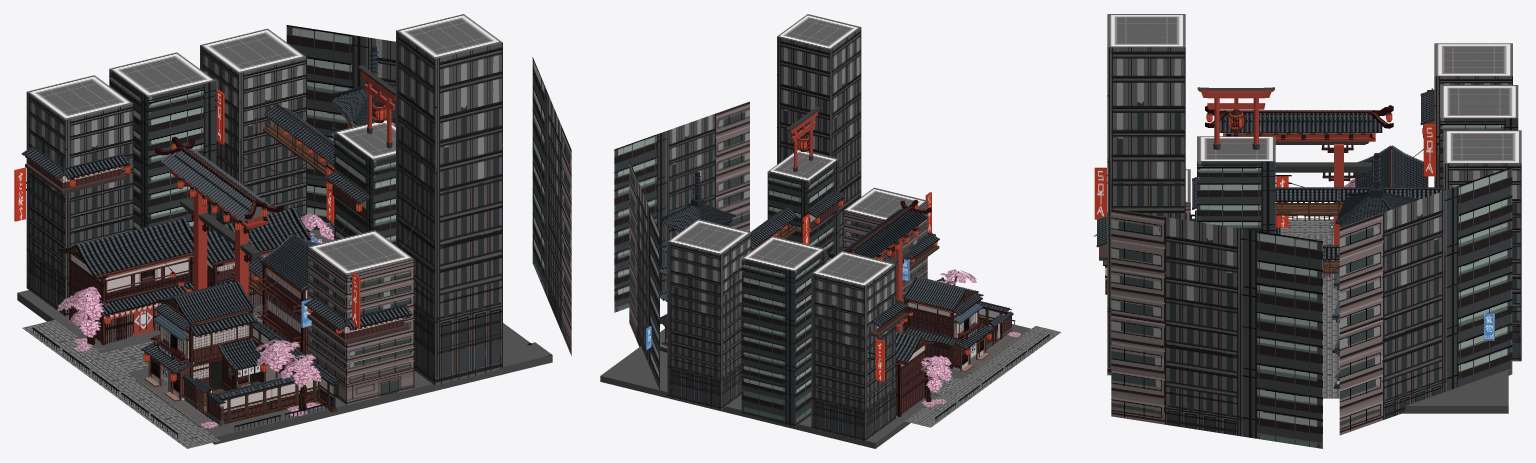
The picture shows the model from 3 angles, left to right: view 1: azimuth 30°, elevation 25°; view 2: azimuth 150°, elevation 25°; view 3: azimuth 270°, elevation 25°; orthographic projection. The views are drawn at different scales.
Visible parts, largest first — view 1: Object614_Material #11_0, Object422_Material #11_0, Object434_Material #11_0, Object548_Material #11_0, Object433_Material #11_0, Plane194, Plane193, Plane112, Box231, Object541_Material #11_0, Object527_Material #12_0, Object390_Material #4_0 (+28 smaller); view 2: Object422_Material #11_0, Object548_Material #11_0, Plane194, Object433_Material #11_0, Object614_Material #11_0, Object541_Material #11_0, Plane193, Box231, Object530_Material #12_0, Object527_Material #12_0, Object434_Material #11_0, Object640_Material #4_0 (+9 smaller); view 3: Plane194, Plane193, Object614_Material #11_0, Object541_Material #11_0, Object548_Material #11_0, Object433_Material #11_0, Object422_Material #11_0, Box530, Object640_Material #4_0, Object530_Material #12_0, Object529_Material #12_0, Object390_Material #4_0 (+11 smaller).
Part boxes in pixels (box(x1,y1,x2,y2)): Object614_Material #11_0: box(396, 14, 502, 385); Object422_Material #11_0: box(26, 75, 133, 316); Object434_Material #11_0: box(307, 230, 414, 404); Object548_Material #11_0: box(200, 28, 306, 224); Object433_Material #11_0: box(109, 52, 216, 231); Plane194: box(532, 57, 571, 355); Plane193: box(286, 25, 395, 230); Plane112: box(104, 261, 340, 424); Box231: box(140, 136, 283, 417); Object541_Material #11_0: box(334, 119, 395, 244); Object527_Material #12_0: box(22, 320, 219, 448); Object390_Material #4_0: box(58, 218, 193, 279); Object422_Material #11_0: box(811, 251, 895, 441); Object548_Material #11_0: box(667, 219, 751, 409); Plane194: box(614, 101, 749, 312); Object433_Material #11_0: box(741, 236, 826, 426); Object614_Material #11_0: box(777, 14, 861, 252); Object541_Material #11_0: box(767, 149, 839, 261); Plane193: box(629, 160, 659, 395); Box231: box(828, 199, 1011, 371); Object530_Material #12_0: box(600, 329, 940, 448); Object527_Material #12_0: box(905, 326, 1061, 427); Object434_Material #11_0: box(843, 187, 927, 303); Object640_Material #4_0: box(843, 207, 927, 257); Plane194: box(1111, 209, 1322, 448); Plane193: box(1339, 167, 1512, 435); Object614_Material #11_0: box(1107, 14, 1185, 375); Object541_Material #11_0: box(1197, 136, 1275, 233); Object548_Material #11_0: box(1443, 130, 1521, 361); Object433_Material #11_0: box(1440, 85, 1518, 187); Object422_Material #11_0: box(1434, 43, 1512, 187); Box530: box(1222, 115, 1376, 282); Object640_Material #4_0: box(1219, 110, 1382, 132); Object530_Material #12_0: box(1402, 369, 1508, 413); Object529_Material #12_0: box(1289, 235, 1339, 398); Object390_Material #4_0: box(1355, 145, 1428, 187).
Bounding box in the file's own units: 5719 × 4009 × 4668.
14 materials, 11 textured.
